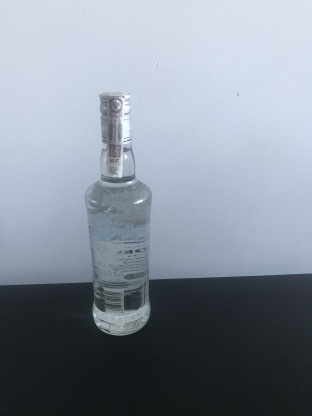nakretka: (97, 87, 134, 145)
